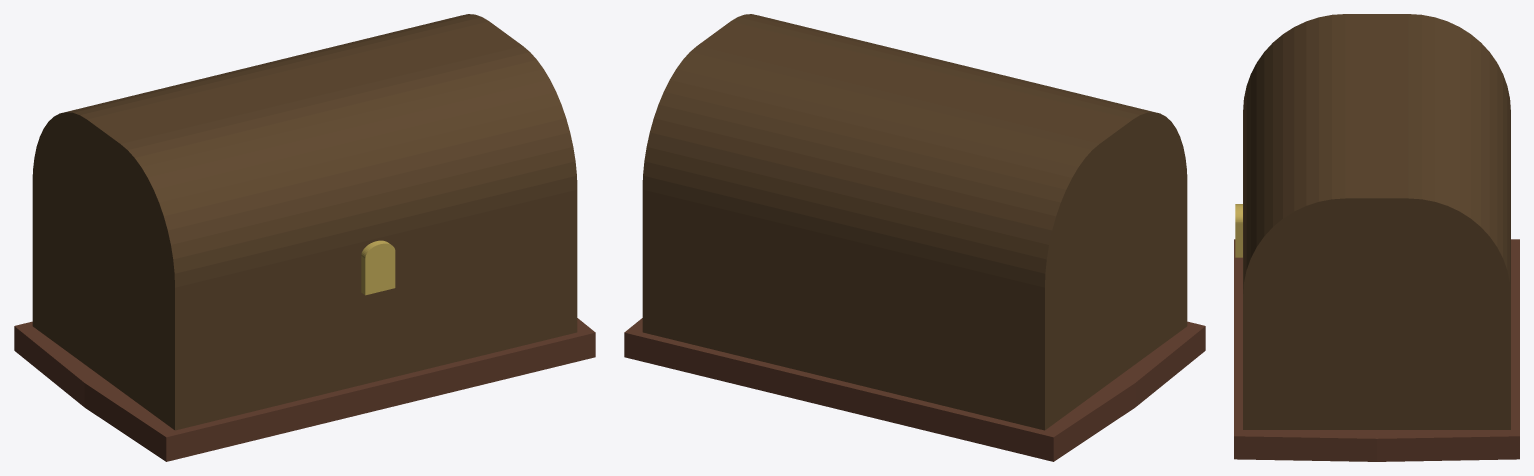
Rendered from Chest.fbx.
3 views of the same model, side by side, from view 1: azimuth 30°, elevation 25°; view 2: azimuth 150°, elevation 25°; view 3: azimuth 270°, elevation 25° (orthographic). The views are drawn at different scales.
Visible parts, largest first — view 1: Cube; view 2: Cube; view 3: Cube.
Part boxes in pixels (<box>): Cube: <box>14,14,595,461</box>; Cube: <box>624,14,1205,461</box>; Cube: <box>1234,14,1519,461</box>.
Bounding box in the file's own units: 489 × 287 × 292.
